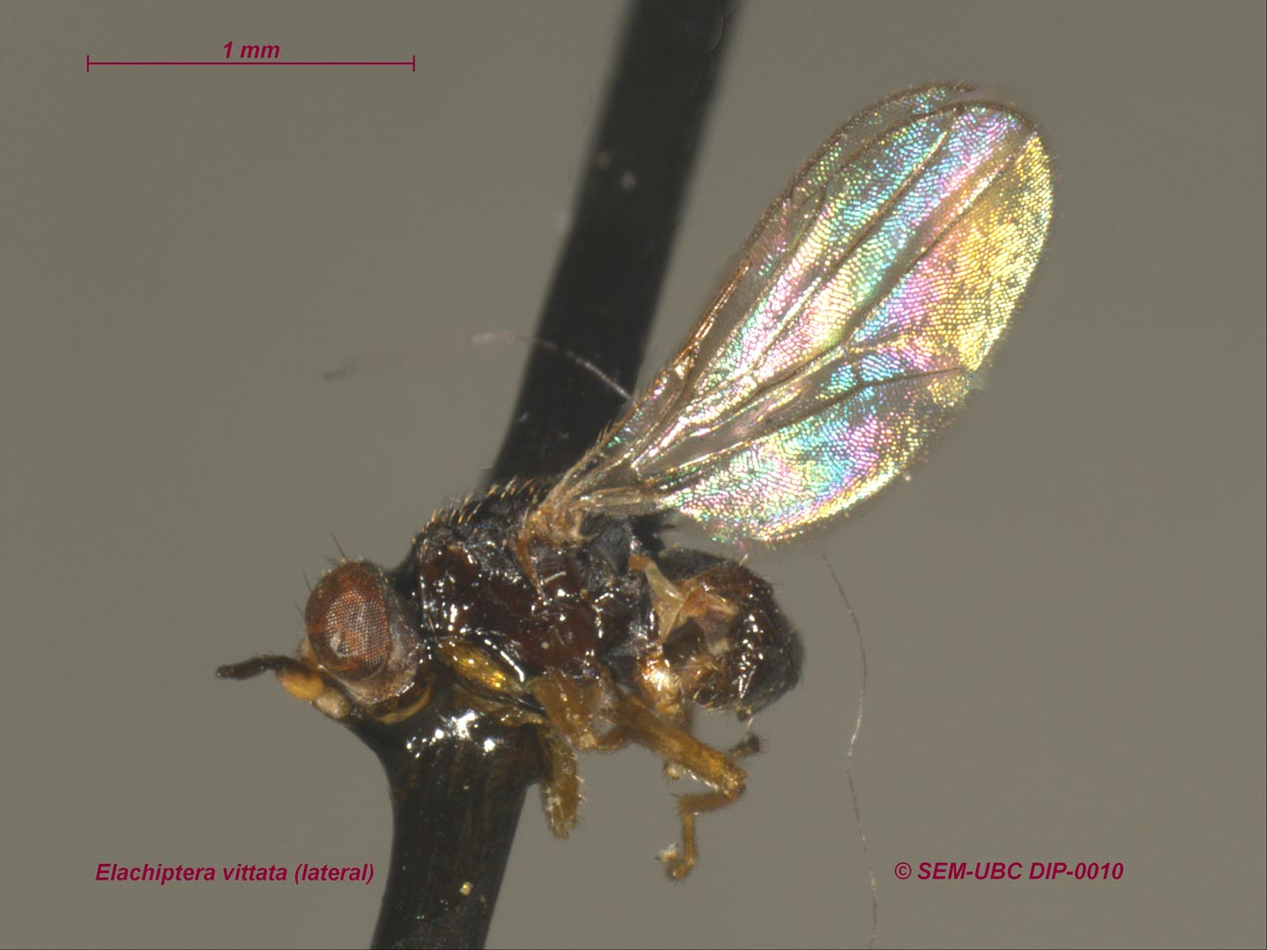Chloropidae: (210, 82, 1043, 857)
